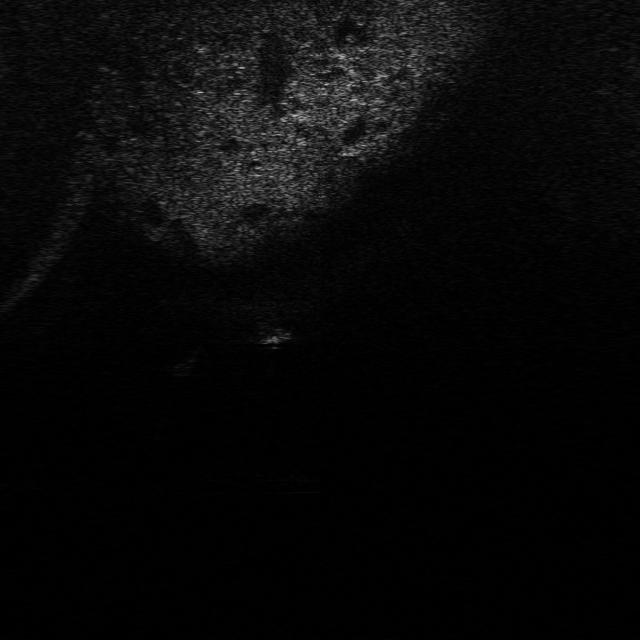cube: (164, 343, 203, 375)
cylinder: (244, 315, 294, 344)
